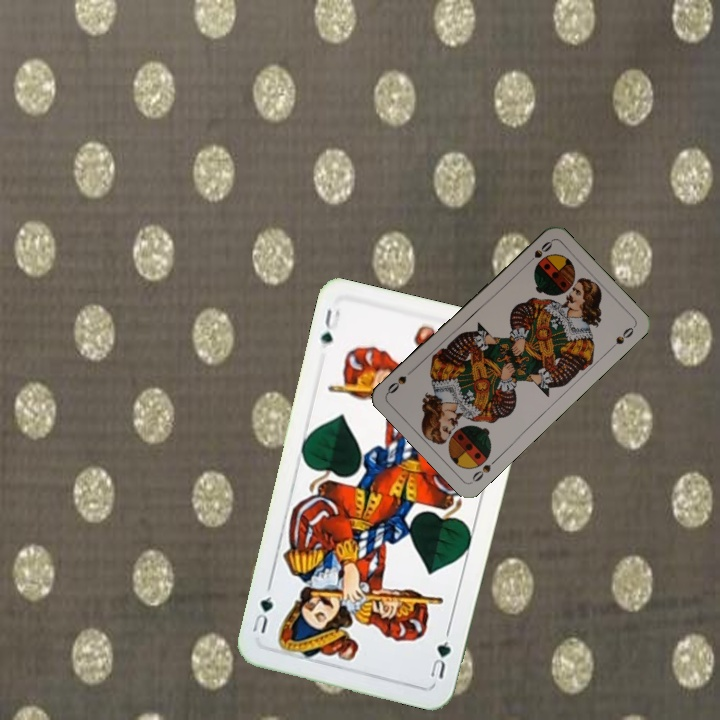GU: (426, 635, 454, 681), (316, 305, 343, 347)
SO: (521, 237, 555, 268), (468, 454, 501, 484)
